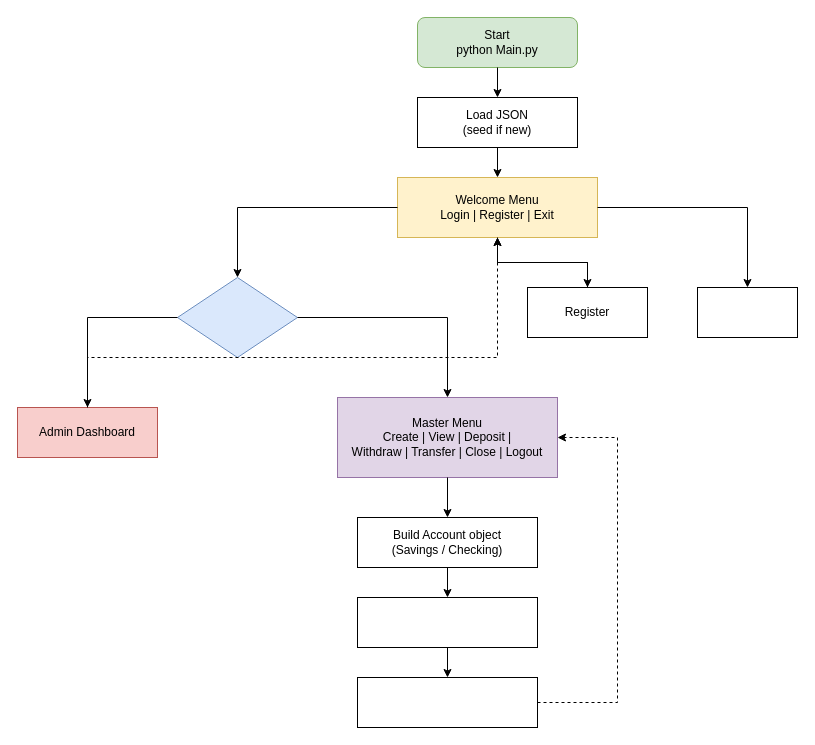
This 815x745 diagram has some shape labels left out. Each missing label, with the box of its shape:
deposit() / withdraw() polymorphism rules: (356, 596, 538, 648)
Exit: (696, 286, 798, 338)
Login: (176, 276, 298, 358)
Update dict + save JSON print_receipt(): (356, 676, 538, 728)
